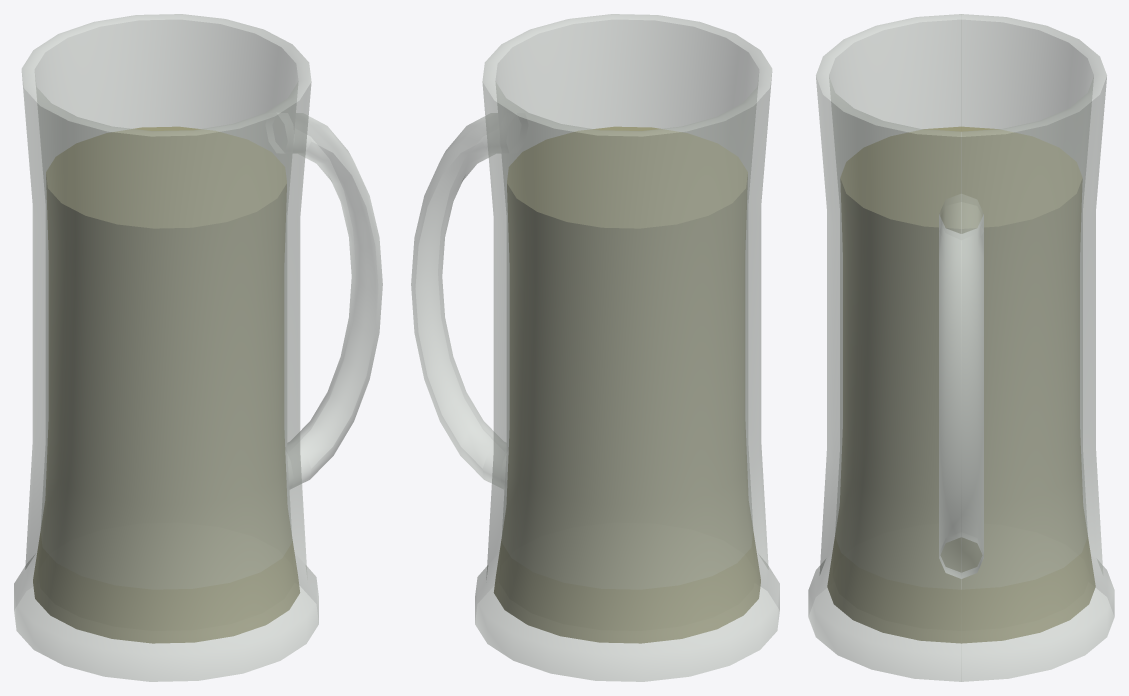
File: drink-10.glb
3 views of the same model, side by side, from view 1: azimuth 30°, elevation 25°; view 2: azimuth 150°, elevation 25°; view 3: azimuth 270°, elevation 25° (orthographic).
Visible parts, largest first — view 1: glass, liquid; view 2: glass, liquid; view 3: glass, liquid.
Part boxes in pixels (left/top/right/bottom): glass: left=14, top=14, right=382, bottom=681; liquid: left=33, top=126, right=299, bottom=643; glass: left=411, top=14, right=779, bottom=681; liquid: left=494, top=126, right=760, bottom=643; glass: left=808, top=14, right=1114, bottom=681; liquid: left=827, top=126, right=1095, bottom=643.
Bounding box in the file's own units: 0.1064 × 0.1605 × 0.082.
